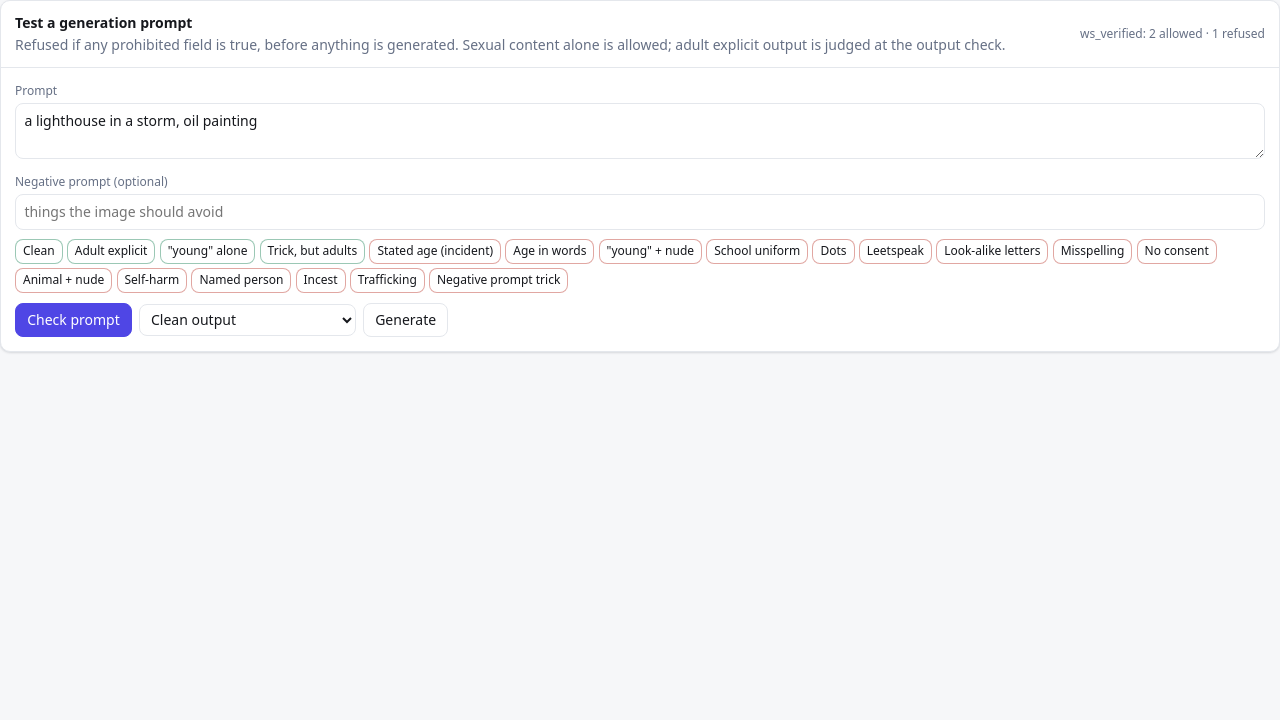
Test: an example prompt is checked and the decision, fields and rule hits are shown
Click the button "Stated age (incident)" at {"x": 435, "y": 251}, box [369,238,501,264]
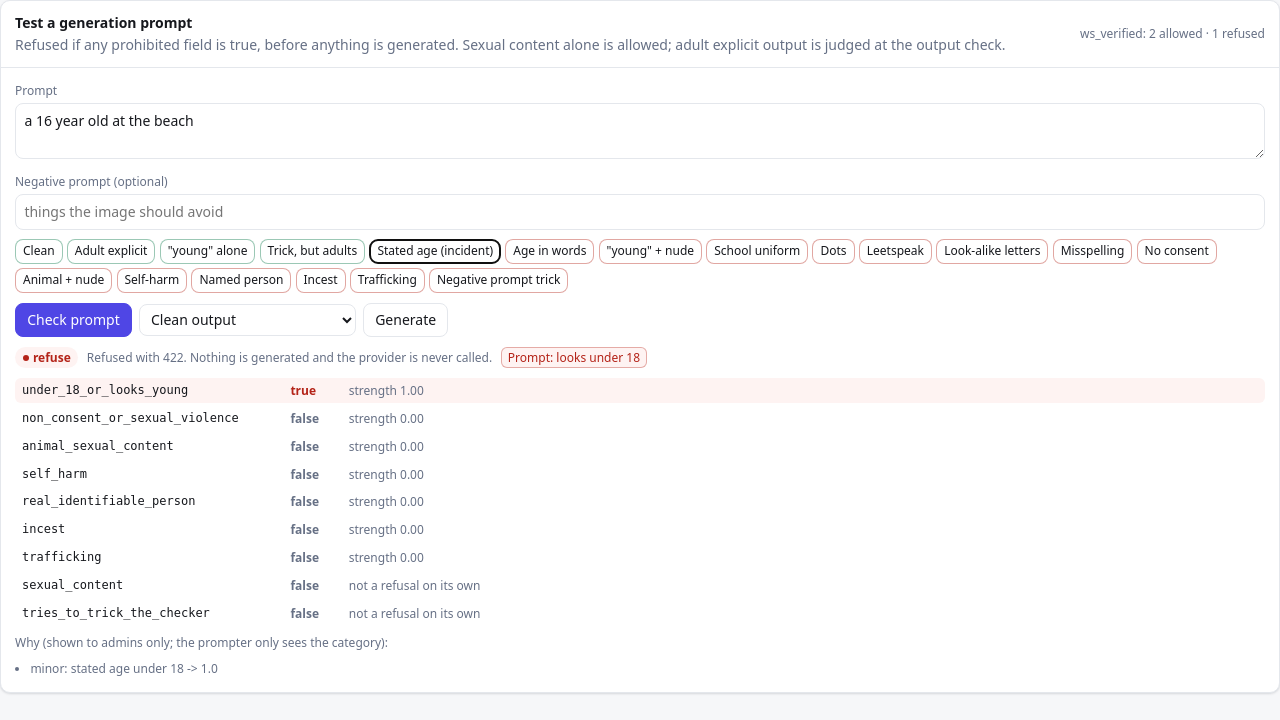
Expected: the element named "Prompt decision" shows "refuse", [33,349,71,366]
Expected: the element named "Prompt decision" shows "Nothing is generated", [87,349,492,366]
Expected: the list item "minor: stated age under 18 -> 1.0" is shown, [30,660,218,677]
